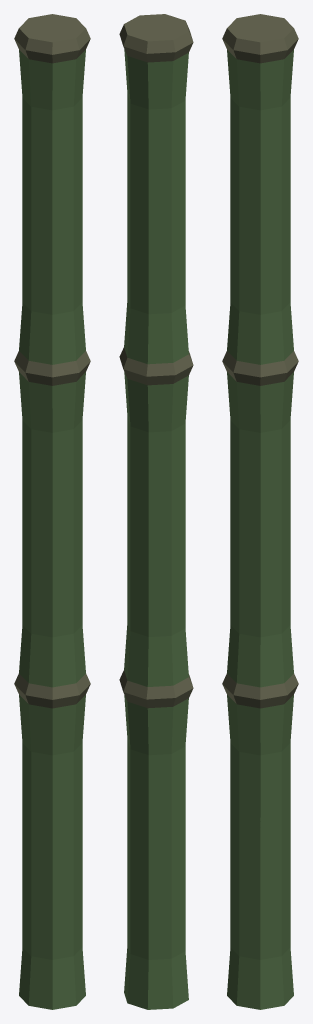
File: Bamboo_01_F.fbx
3 renders of one model, left to right at view 1: azimuth 90°, elevation 25°; view 2: azimuth 210°, elevation 25°; view 3: azimuth 270°, elevation 25°, orthographic.
Parts seen in each view (by area): view 1: Bamboo_01_F; view 2: Bamboo_01_F; view 3: Bamboo_01_F.
Part boxes in pixels (x1,y1,x2,y2): Bamboo_01_F: (14,14,90,1009); Bamboo_01_F: (119,14,193,1009); Bamboo_01_F: (222,14,298,1009).
Bounding box in the file's own units: 5.63 × 78.38 × 5.63.
